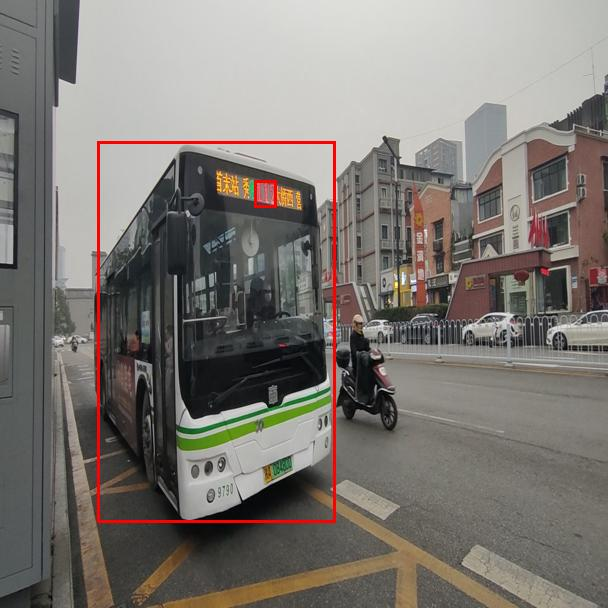bus: (97, 141, 335, 522)
screen: (254, 180, 276, 207)
